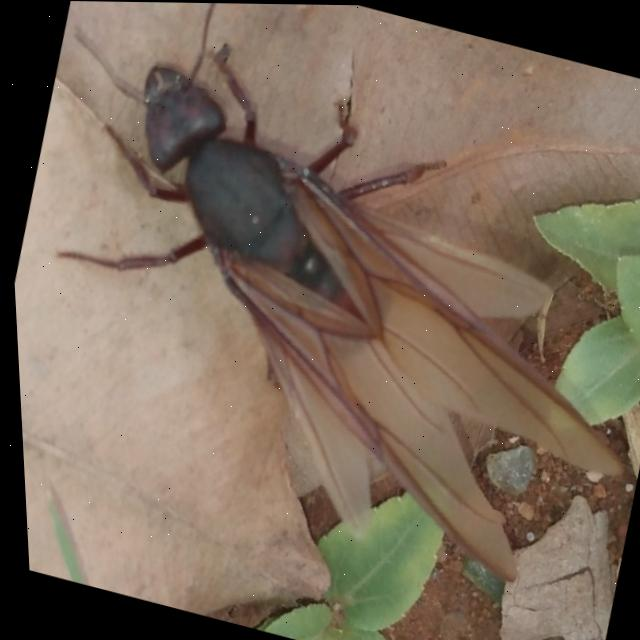Alive-Female-Alate: (0, 0, 640, 604)
